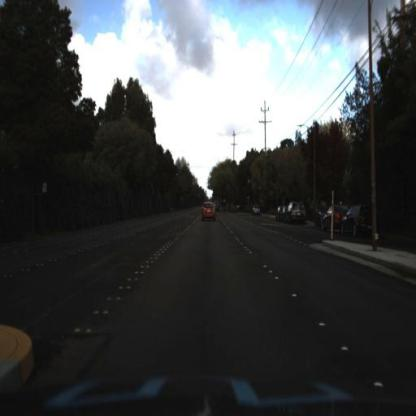car: (341, 205, 381, 235), (325, 203, 347, 232), (287, 201, 307, 228), (202, 198, 217, 222)
